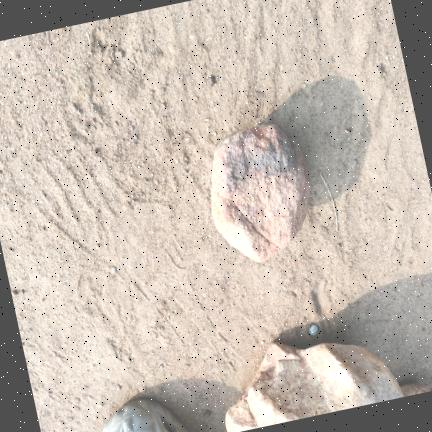Rocks: (225, 342, 402, 431), (210, 124, 309, 261), (400, 383, 429, 396), (307, 323, 317, 334)
